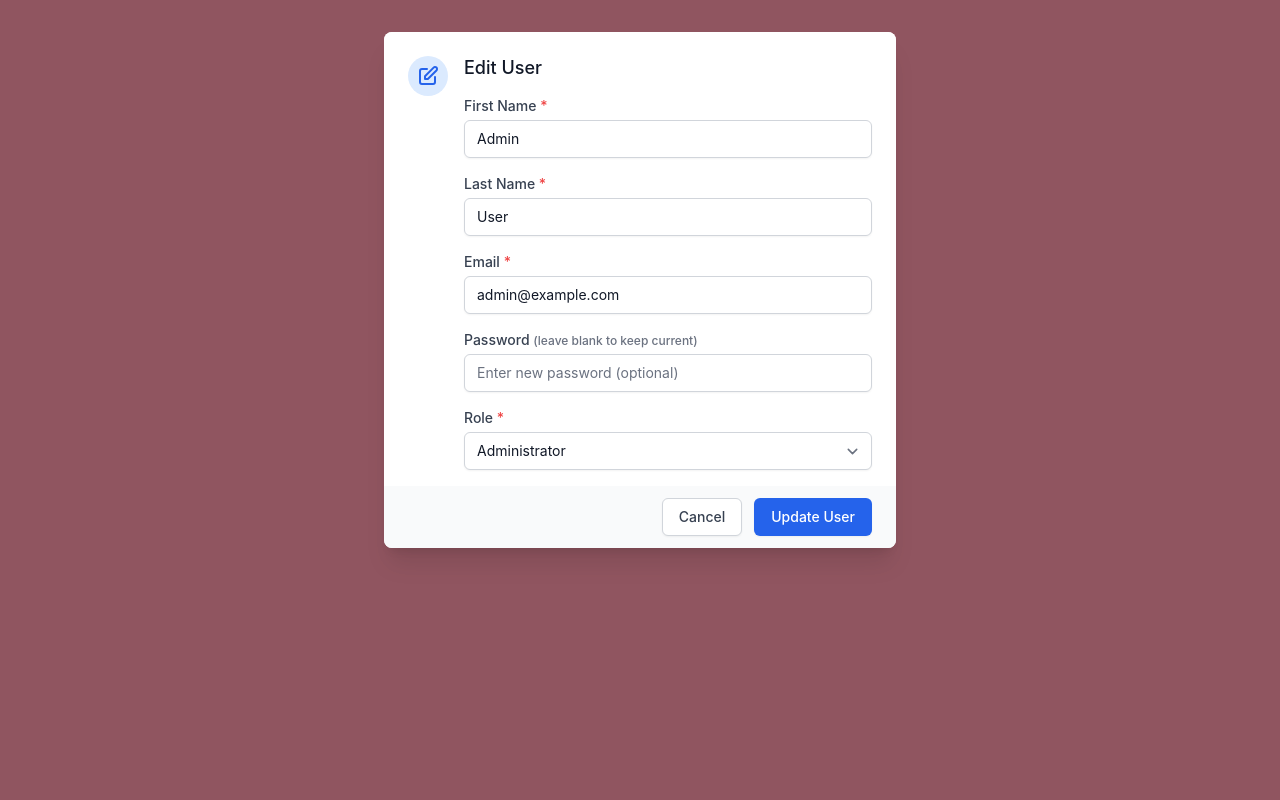
Test case: EditUserModal › handles form submission with loading state
// Trigger form submission
Click the submit button at (813, 517), box 754,498 -> 872,536
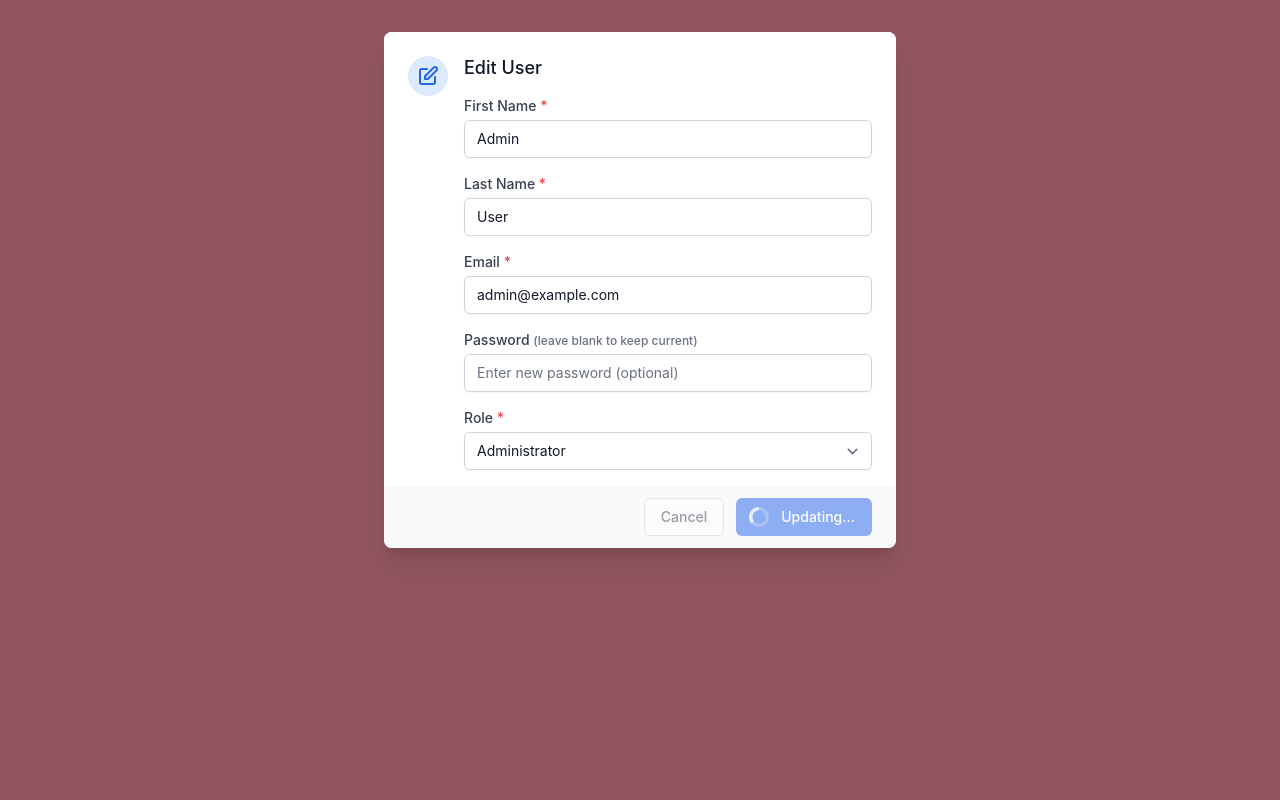
Expected: the submit button reads "Updating...", 736,498 -> 872,536
Expected: the submit button is disabled, 736,498 -> 872,536
